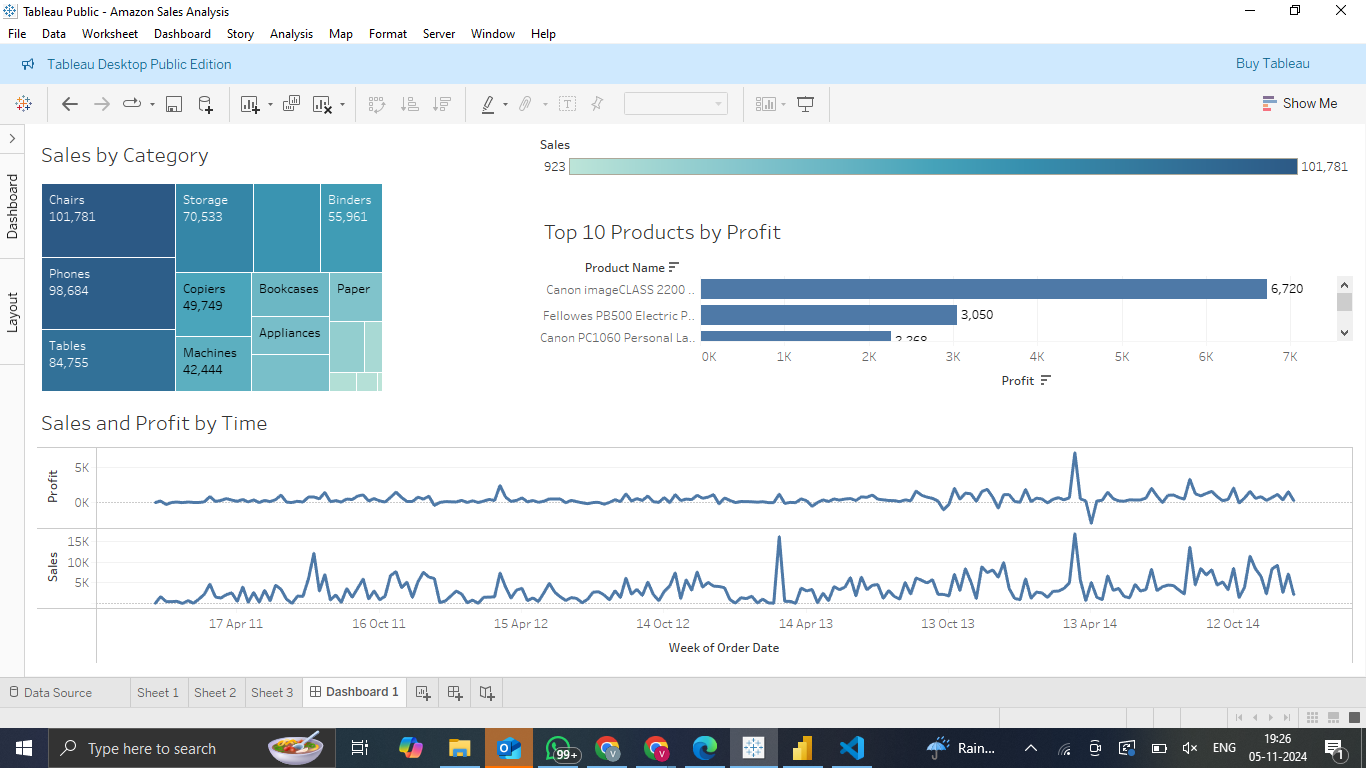

Layout of this report page (visuals, bound fields, positions):
{"tool":"tableau","page":{"name":"Dashboard 1","canvas":[1000,1000],"units":"permille","ordinal":0},"visuals":[{"type":"worksheet","title":"Sheet 1","mark":"Automatic","box":[6,14.5,423.9,485.5]},{"type":"legend","title":"Sheet 1","param":"[federated.09xt0ey1eyxilf1echvoj1h3iqsy].[sum:Sales:qk]","box":[429.8,14.5,564.2,139.5]},{"type":"worksheet","title":"Sheet 2","mark":"Automatic","rows":["Product Name"],"cols":["Profit"],"box":[429.8,154,564.2,346]},{"type":"worksheet","title":"Sheet 3","mark":"Automatic","rows":["Profit","Sales"],"cols":["Order Date"],"box":[6,500,988.1,485.5]}]}

Visuals, with their boxes on the dashboard's canvas, which has no fixed pixel size, in thousandths of its width and height (x1, y1, x2, y2). These are canvas units, not pixel positions in the 1366x768 screenshot, which may show the page scaled, cropped or inside an application window:
"Sheet 1" worksheet: [x1=6, y1=14, x2=430, y2=500]
"Sheet 1" legend: [x1=430, y1=14, x2=994, y2=154]
"Sheet 2" worksheet: [x1=430, y1=154, x2=994, y2=500]
"Sheet 3" worksheet: [x1=6, y1=500, x2=994, y2=986]
